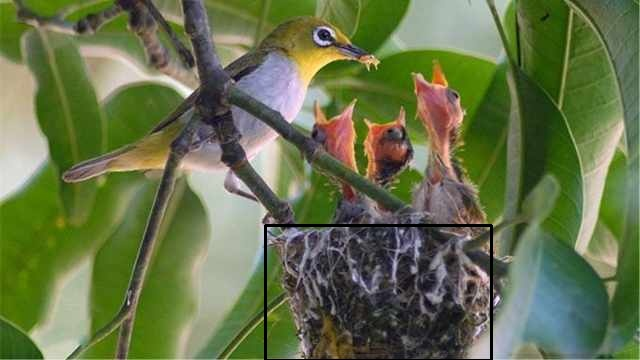bird-nest: (265, 225, 491, 360)
